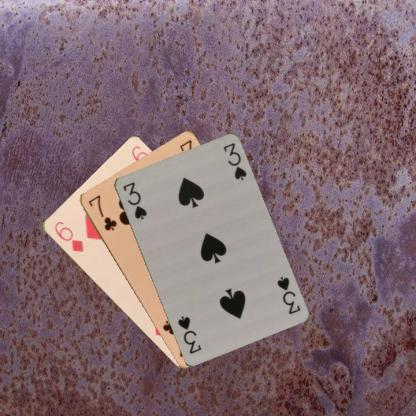3s: (120, 179, 148, 221), (274, 274, 301, 315)
6d: (51, 218, 85, 254)
7c: (85, 192, 118, 232)
